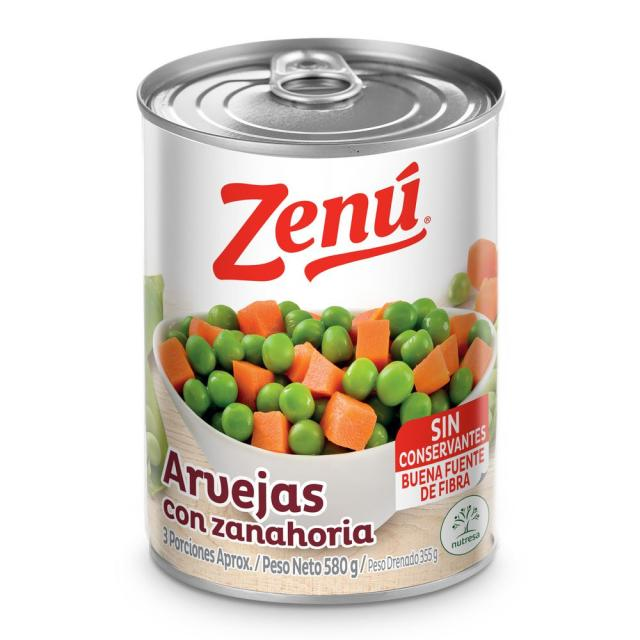arvejas: (175, 300, 484, 448)
